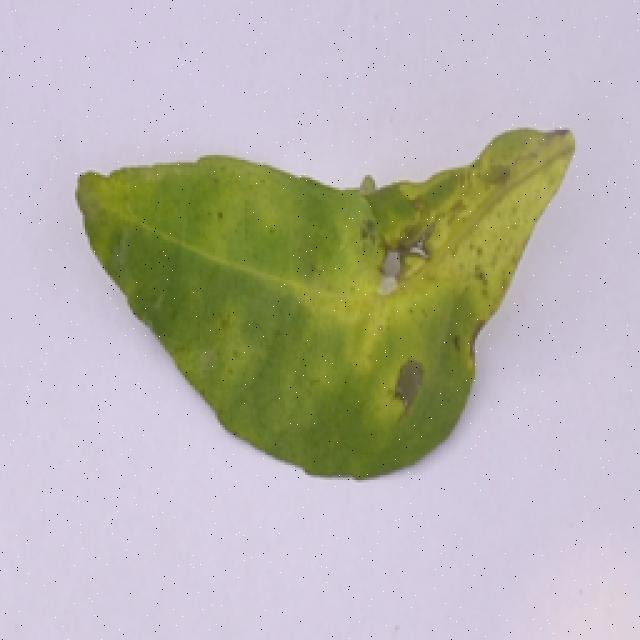blackspot: (32, 39, 630, 512)
